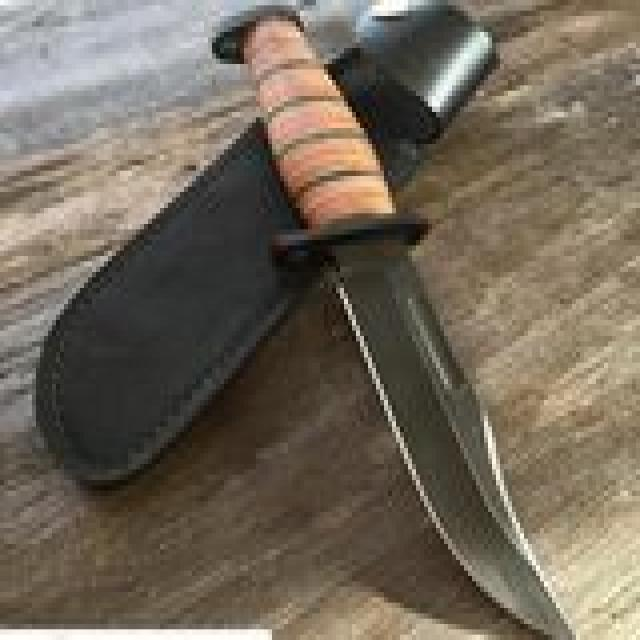Knife: (208, 7, 578, 634)
